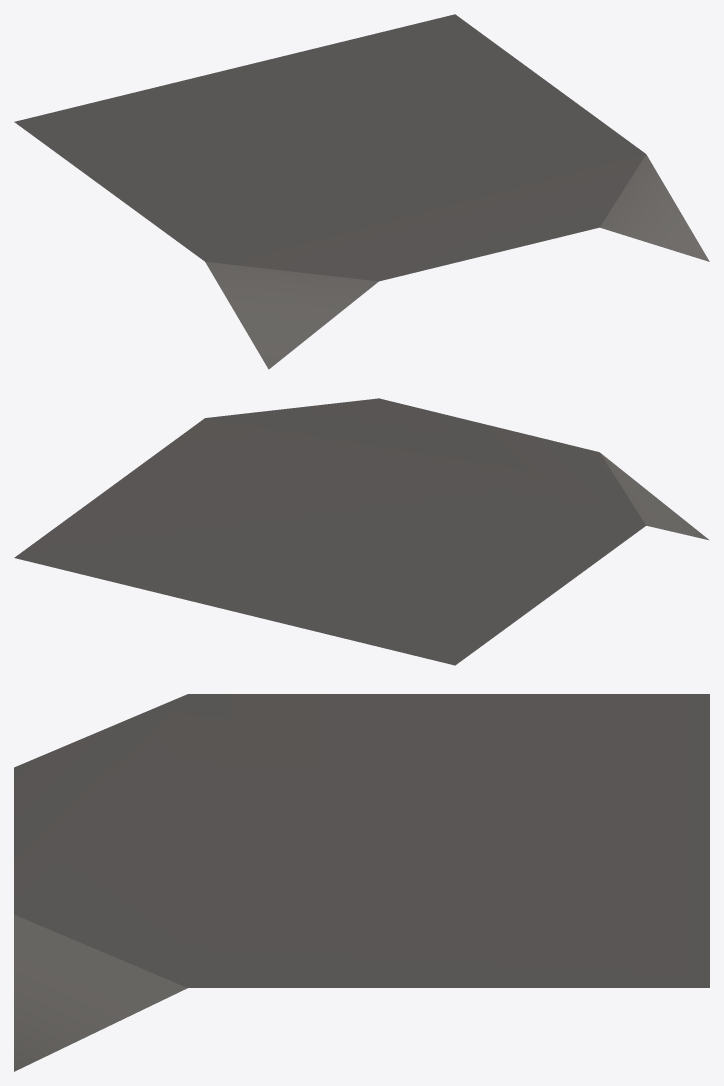
File: AI_Env_Sewer_Roof_Exit.fbx
The picture shows the model from 3 angles, top to bottom: view 1: azimuth 30°, elevation 25°; view 2: azimuth 150°, elevation 25°; view 3: azimuth 270°, elevation 25°; orthographic projection. The views are drawn at different scales.
Visible parts, largest first — view 1: AI_Env_Sewer_Roof_Exit; view 2: AI_Env_Sewer_Roof_Exit; view 3: AI_Env_Sewer_Roof_Exit.
Boxes of the visible parts, bbox=[...] form: AI_Env_Sewer_Roof_Exit: bbox=[14, 14, 709, 369]; AI_Env_Sewer_Roof_Exit: bbox=[14, 398, 709, 665]; AI_Env_Sewer_Roof_Exit: bbox=[14, 694, 709, 1071].
Bounding box in the file's own units: 5 × 0.6645 × 5.
